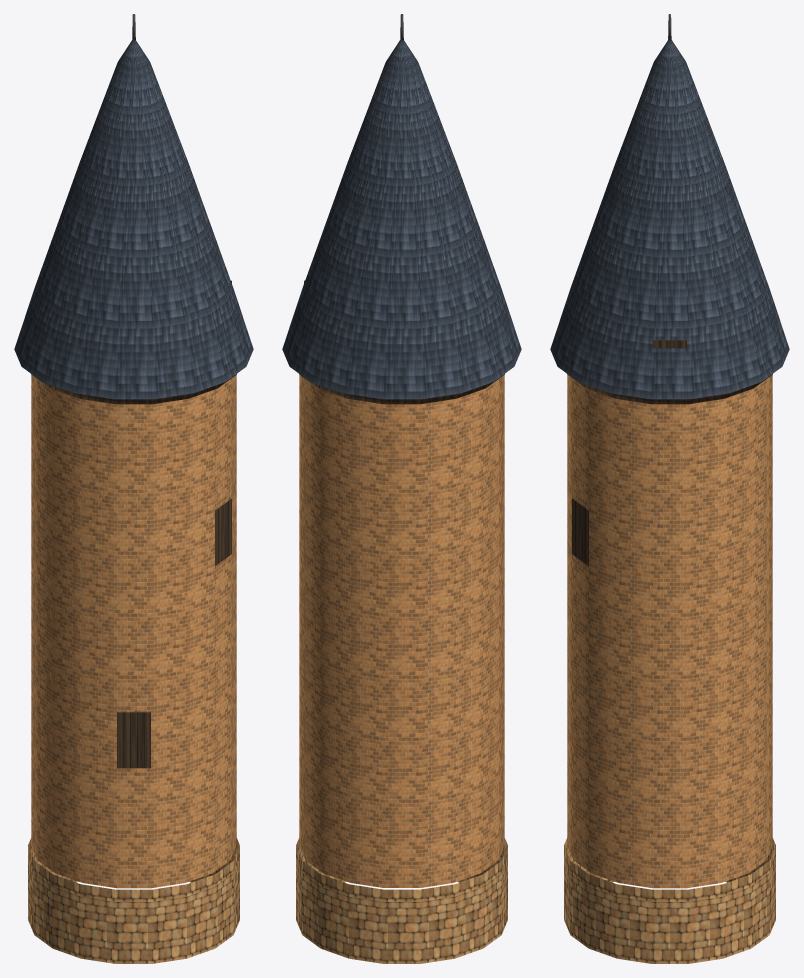
Rendered from Turret_Corner_Ochre_1.gltf.
3 renders of one model, left to right at view 1: azimuth 30°, elevation 25°; view 2: azimuth 150°, elevation 25°; view 3: azimuth 270°, elevation 25°, orthographic.
Visible parts, largest first — view 1: Turret_Corner_Ochre_1; view 2: Turret_Corner_Ochre_1; view 3: Turret_Corner_Ochre_1.
Boxes of the visible parts, <box> form: Turret_Corner_Ochre_1: <box>14,14,253,963</box>; Turret_Corner_Ochre_1: <box>282,14,521,963</box>; Turret_Corner_Ochre_1: <box>550,14,789,963</box>.
Bounding box in the file's own units: 3.45 × 14.6 × 3.5.
Materials: 5 (5 with a texture image).
